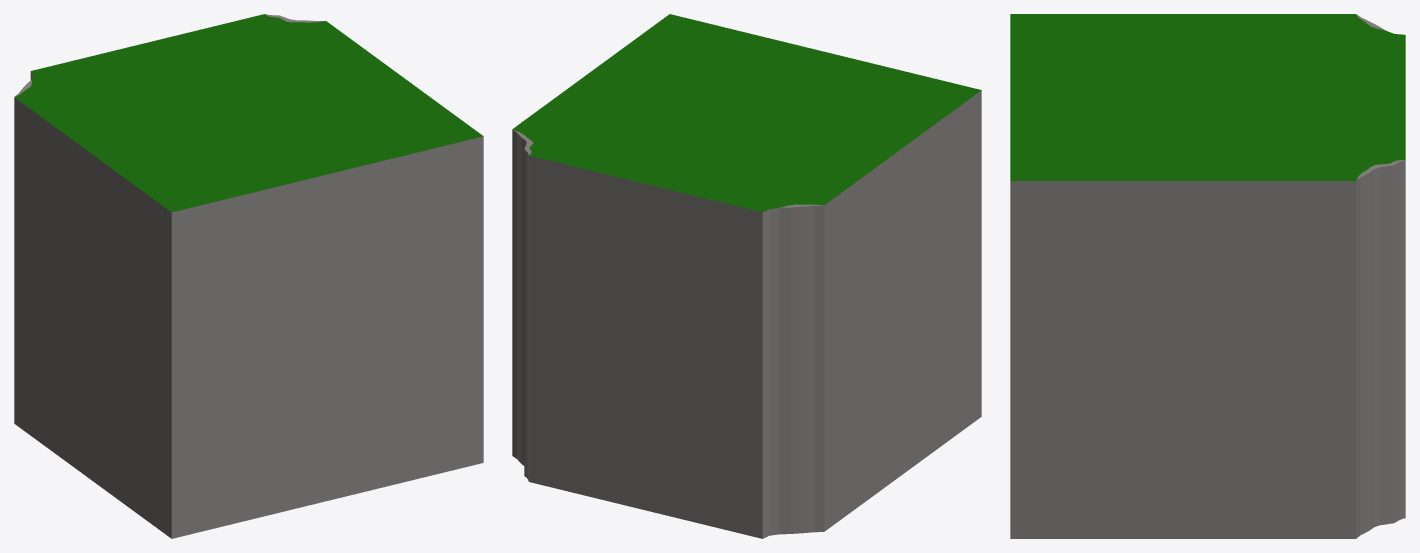
The model's file is MountainDoubleWedge.fbx.
3 views of the same model, side by side, from view 1: azimuth 30°, elevation 25°; view 2: azimuth 150°, elevation 25°; view 3: azimuth 270°, elevation 25° (orthographic). The views are drawn at different scales.
Parts seen in each view (by area): view 1: Plane.010; view 2: Plane.010; view 3: Plane.010.
Boxes of the visible parts, x1,y1,x2,y2 form: Plane.010: [14, 14, 483, 538]; Plane.010: [512, 14, 981, 538]; Plane.010: [1010, 14, 1405, 538].
Size of the model in its own units: 100 by 100 by 100.
